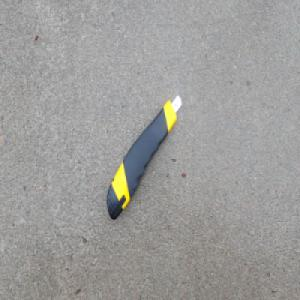Cutter: (106, 93, 183, 222)
